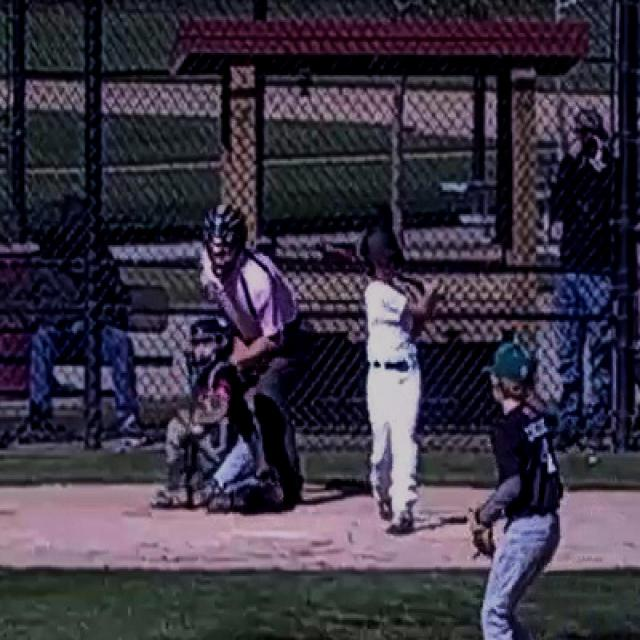baseball: (192, 425, 204, 435)
